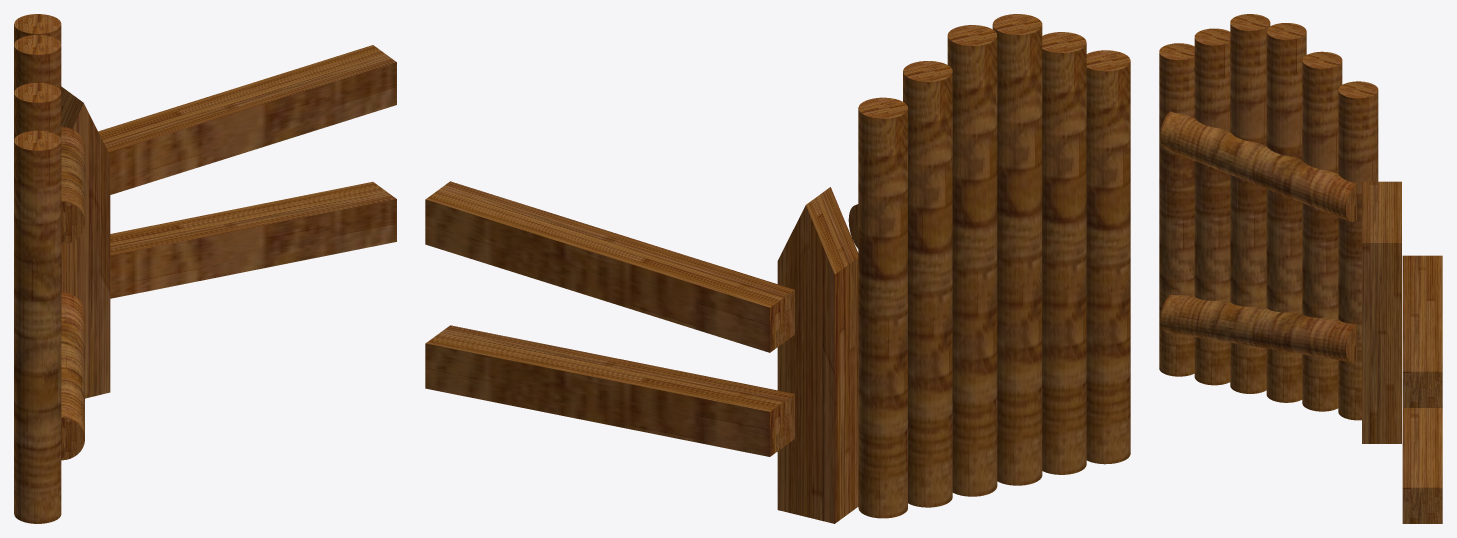
Rendered from FarmFence.fbx.
3 renders of one model, left to right at view 1: azimuth 30°, elevation 25°; view 2: azimuth 150°, elevation 25°; view 3: azimuth 270°, elevation 25°, orthographic. The views are drawn at different scales.
Visible parts, largest first — view 1: FarmFence, Cylinder.001, Cylinder.006, Cylinder.002, Cylinder.004, Cylinder.005; view 2: FarmFence, Cylinder.005, Cylinder.004, FarmFenceDoor, Cylinder.003, Cylinder.002, Cylinder.001; view 3: FarmFence, Cylinder.006, Cylinder.005, Cylinder.004, Cylinder.003, Cylinder.002, Cylinder.001, FarmFenceDoor.
Part boxes in pixels (x1,y1,x2,y2): FarmFence: [61, 45, 396, 398]; Cylinder.001: [14, 130, 61, 523]; Cylinder.006: [61, 127, 85, 460]; Cylinder.002: [14, 82, 61, 140]; Cylinder.004: [14, 35, 61, 92]; Cylinder.005: [14, 14, 61, 44]; FarmFence: [425, 181, 858, 523]; Cylinder.005: [947, 25, 997, 496]; Cylinder.004: [992, 14, 1042, 485]; FarmFenceDoor: [858, 97, 907, 518]; Cylinder.003: [903, 61, 952, 507]; Cylinder.002: [1042, 32, 1086, 474]; Cylinder.001: [1086, 50, 1130, 464]; FarmFence: [1362, 181, 1442, 523]; Cylinder.006: [1160, 111, 1356, 362]; Cylinder.005: [1266, 23, 1306, 402]; Cylinder.004: [1230, 14, 1270, 393]; Cylinder.003: [1302, 51, 1342, 411]; Cylinder.002: [1194, 28, 1230, 385]; Cylinder.001: [1159, 43, 1194, 376]; FarmFenceDoor: [1338, 81, 1378, 420].
Bounding box in the file's own units: 250 × 201 × 142.
